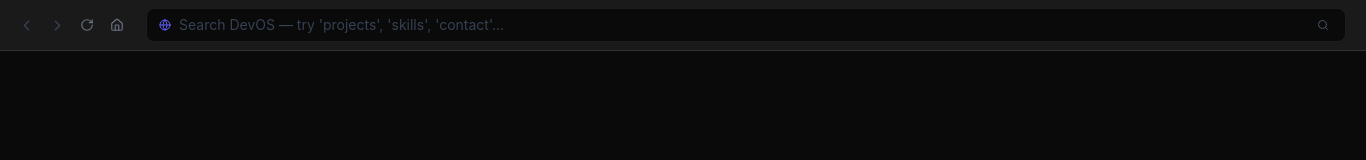
Test: Browser Component — Internal-Only Navigation › suggestion dropdown shows devos:// URL for each suggestion
Type "about" into the field with placeholder "Search DevOS — try 'projects', 'skills', 'contact'...".
click(742, 25); type("about")  # box [179,15,1305,35]
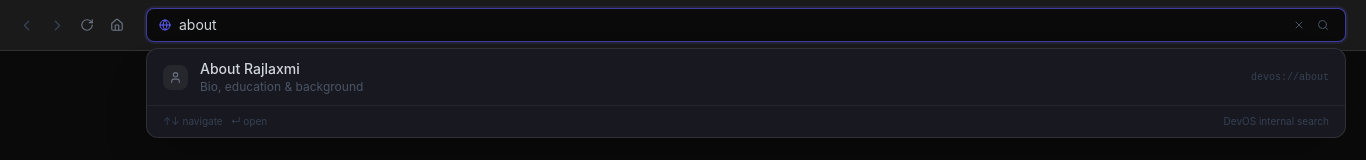
Result: the text "devos://about" is shown at [1251,70,1329,84]
